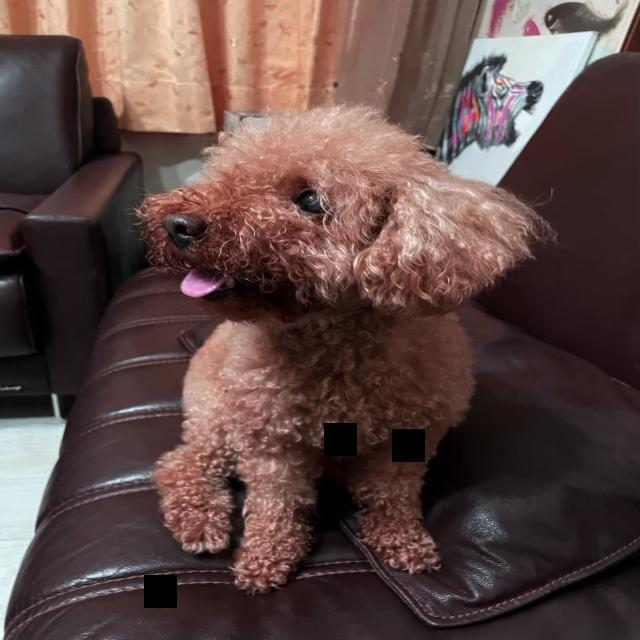adult_dog: (137, 106, 549, 593)
